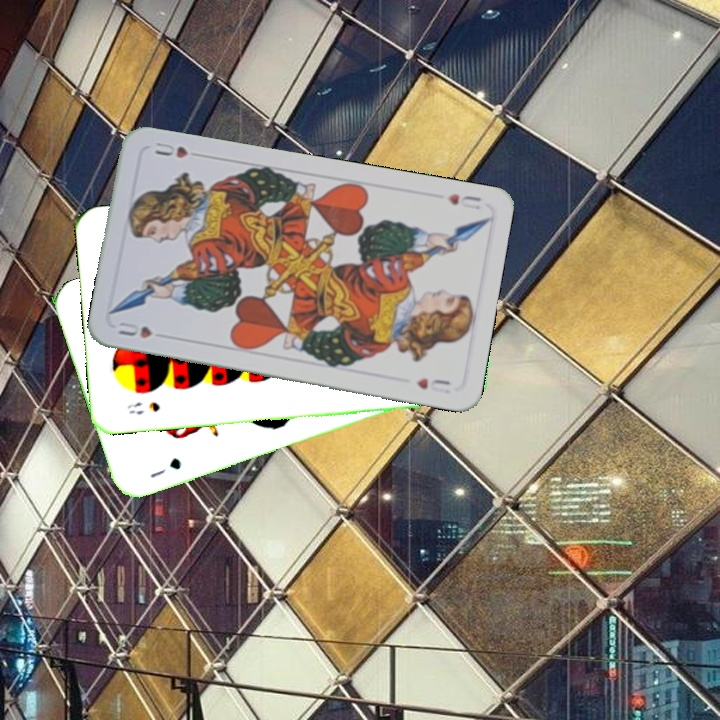GU: (146, 453, 184, 481)
HU: (114, 317, 155, 341), (443, 189, 484, 212)
S8: (123, 398, 163, 418)
